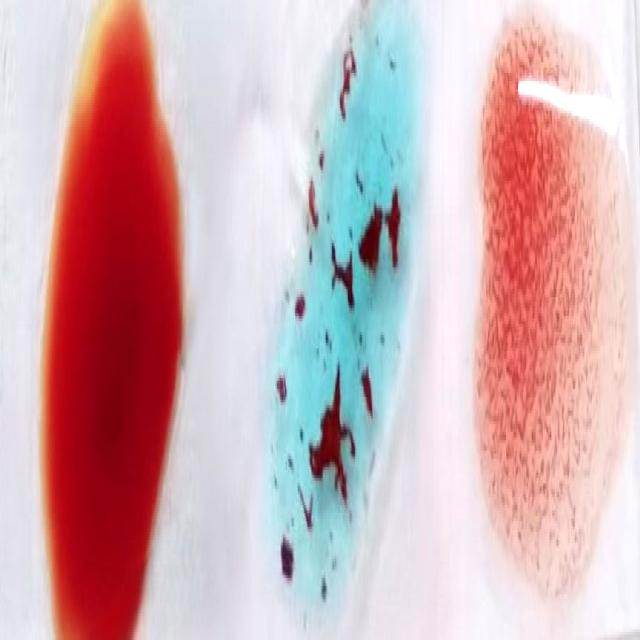A: (264, 11, 418, 640)
D: (475, 56, 628, 582)
